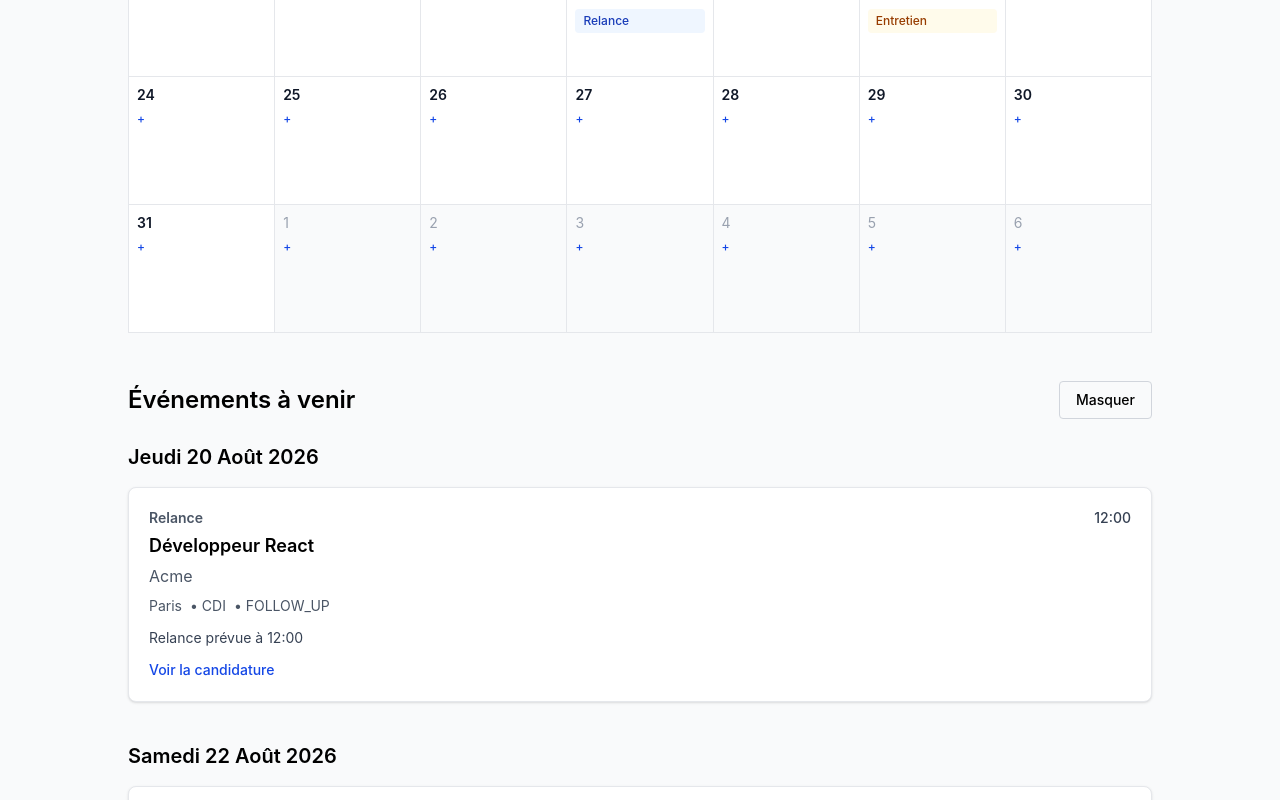
it: CalendarPage › can collapse and reopen the upcoming events section
This screenshot has width=1280, height=800.
(page scrolled)
Expected: the heading "Événements à venir" is shown, [128,384,355,416]
Expected: the heading "Développeur React" is shown, [149,532,314,560]
Click the button with aria-label "Masquer les événements à venir": (1106, 400) [1059,381,1152,419]
(page scrolled)
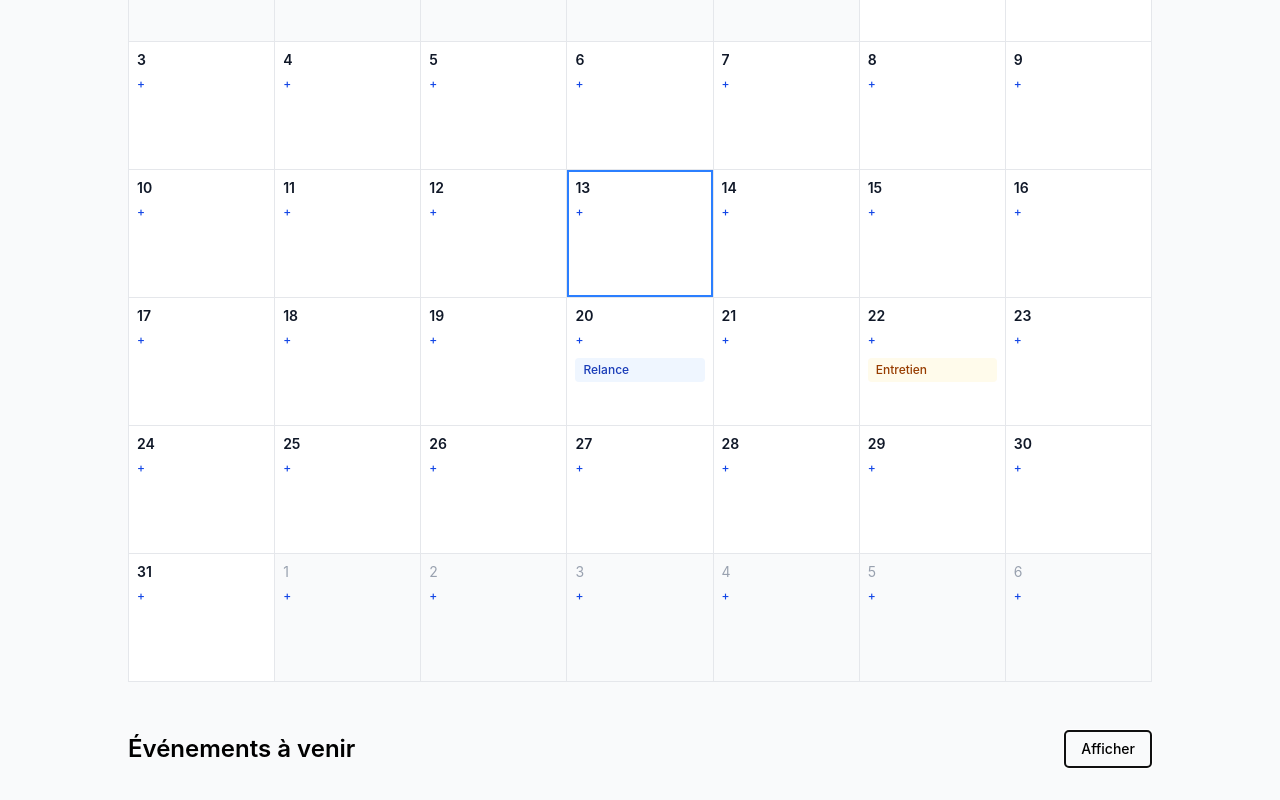
Expected: the heading "Développeur React" is gone
Expected: the button with aria-label "Afficher les événements à venir" is shown
Click the button with aria-label "Afficher les événements à venir": (1108, 749) [1064,730,1152,768]
(page scrolled)
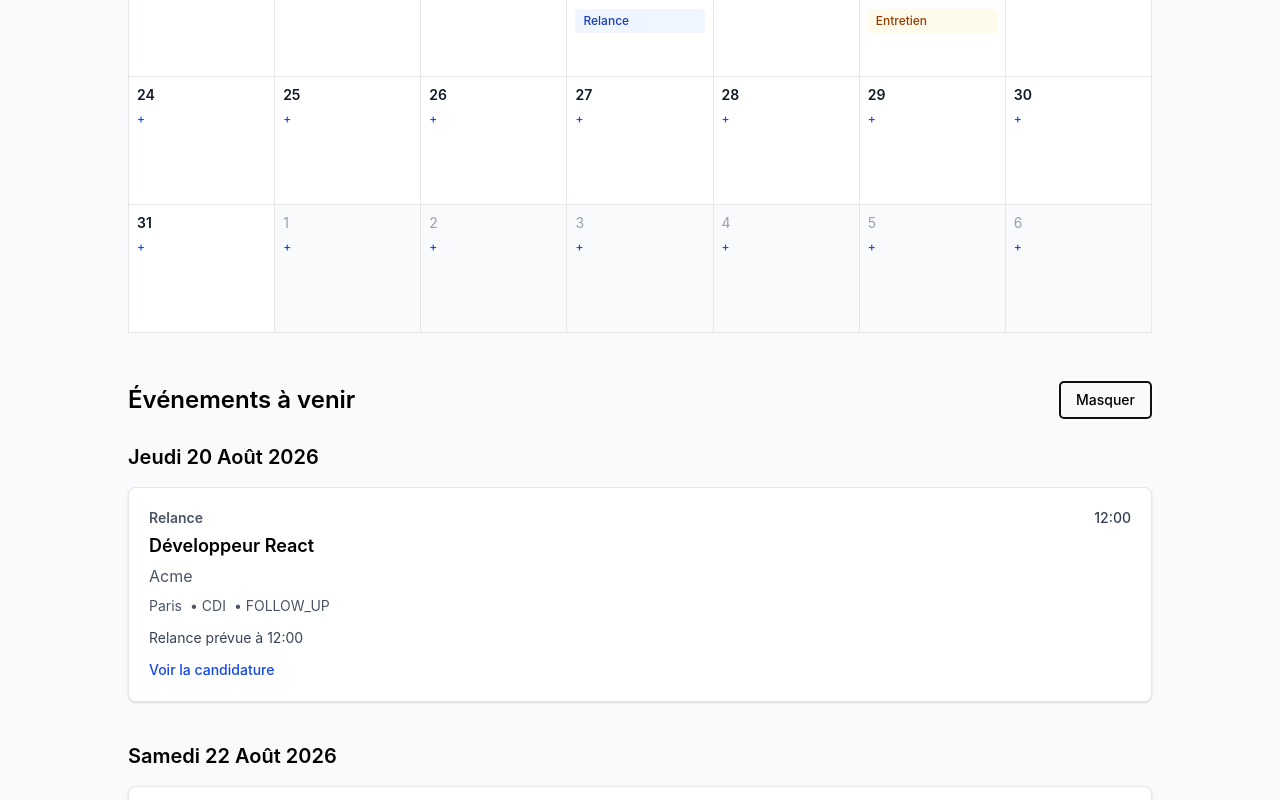
Expected: the heading "Développeur React" is shown, [149,532,314,560]
